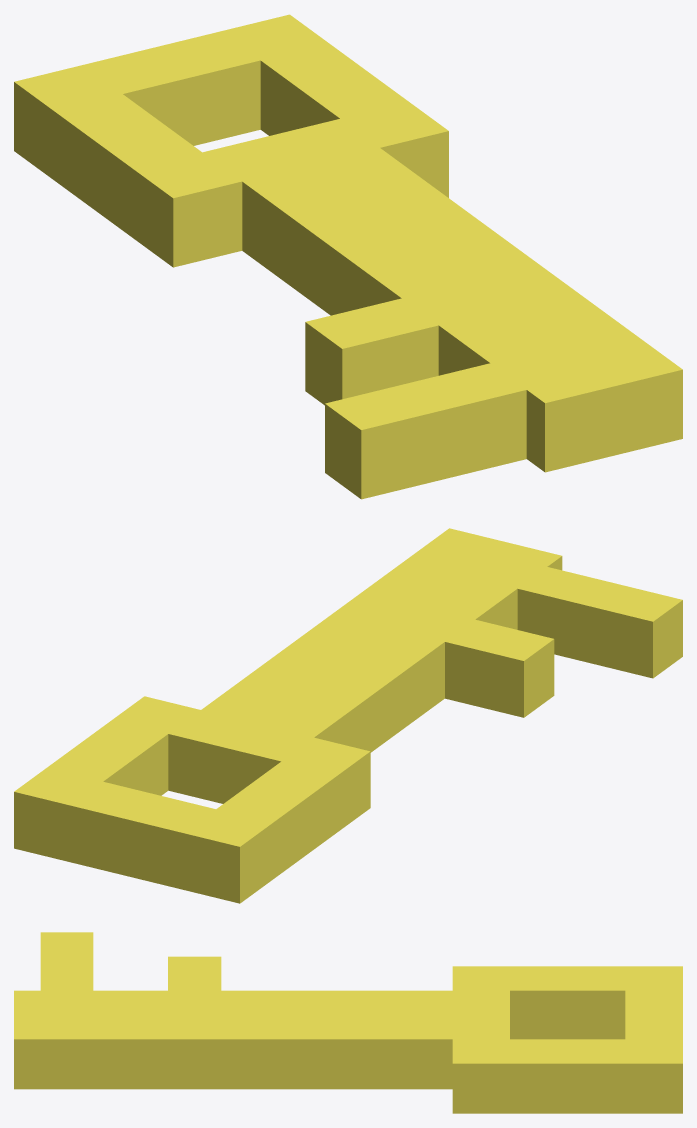
The model's file is key.glb.
The picture shows the model from 3 angles, top to bottom: view 1: azimuth 30°, elevation 25°; view 2: azimuth 150°, elevation 25°; view 3: azimuth 270°, elevation 25°; orthographic projection. The views are drawn at different scales.
Visible parts, largest first — view 1: Cube; view 2: Cube; view 3: Cube.
Part boxes in pixels (x1=…): Cube: x1=14, y1=14, x2=682, y2=499; Cube: x1=14, y1=528, x2=682, y2=903; Cube: x1=14, y1=932, x2=682, y2=1113.
Size of the model in its own units: 0.3852 by 0.0685 by 0.8282.
Materials: 1 (1 with a texture image).
